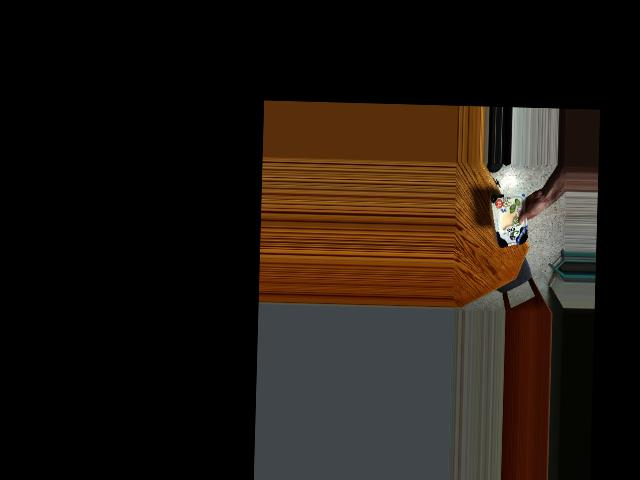cheese: (491, 200, 535, 244)
